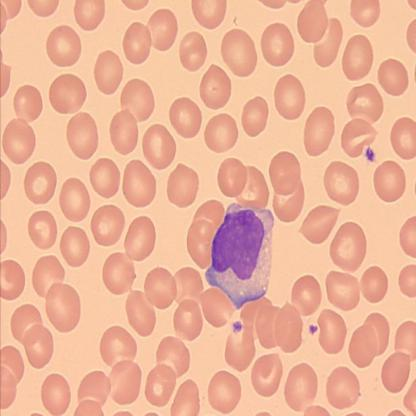Atypical lymphocyte: (206, 203, 275, 299)
